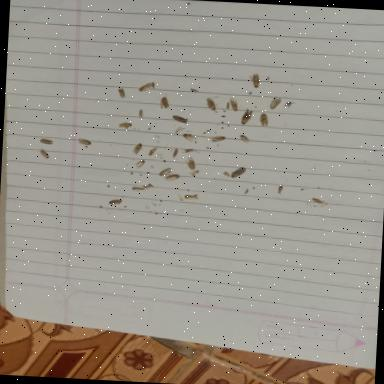pbw: (240, 108, 252, 125), (230, 166, 244, 179), (204, 96, 216, 111), (247, 73, 259, 88), (269, 96, 281, 110), (184, 156, 195, 170), (172, 115, 188, 124), (138, 82, 152, 92), (228, 98, 238, 112), (182, 134, 196, 144), (258, 113, 268, 126), (116, 122, 132, 130), (38, 148, 49, 159), (130, 142, 140, 154), (107, 198, 122, 206), (159, 97, 169, 109), (164, 174, 178, 182), (76, 137, 90, 145), (158, 168, 171, 176), (134, 159, 144, 169), (239, 134, 249, 144), (38, 138, 52, 145), (210, 136, 224, 143), (183, 194, 198, 200), (130, 186, 144, 192), (310, 198, 324, 204), (116, 88, 124, 98), (148, 147, 156, 156), (183, 148, 194, 154), (188, 170, 198, 176), (277, 185, 282, 193), (138, 108, 142, 118)
